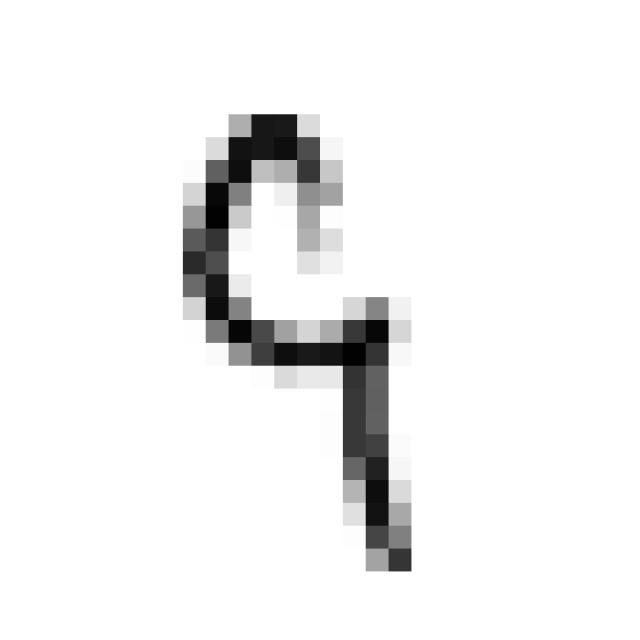9 -nine-: (162, 92, 430, 601)
